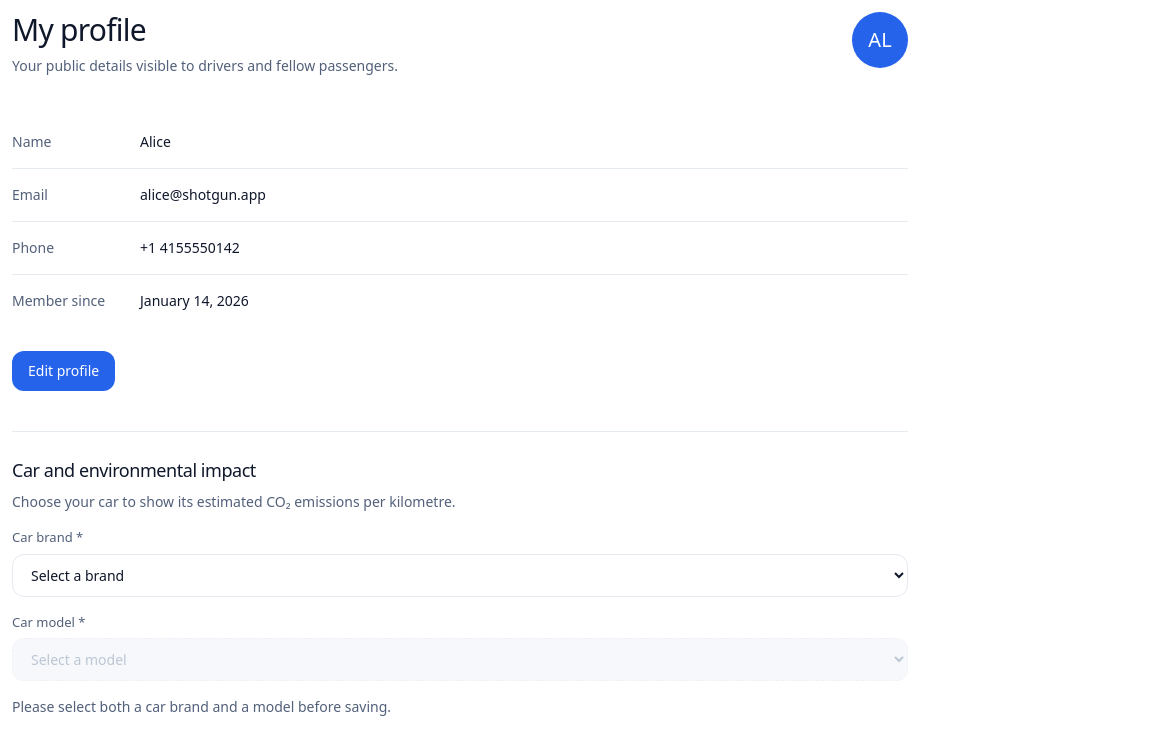
Test case: ProfileView › cancel returns to view mode without changing the store
Click the button "Edit profile" at (64, 371), box [12,351,115,391]
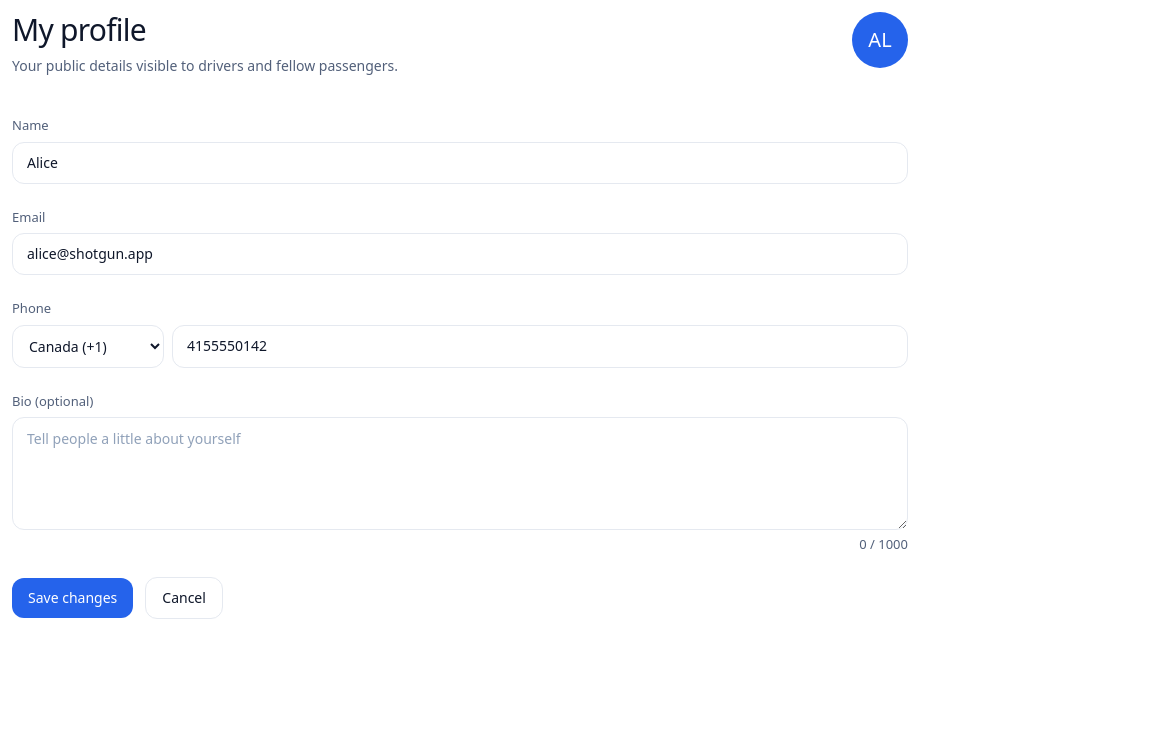
Replace the text in the field labelled "Name" with "Tampered" at (460, 162), box [12,142,908,184]
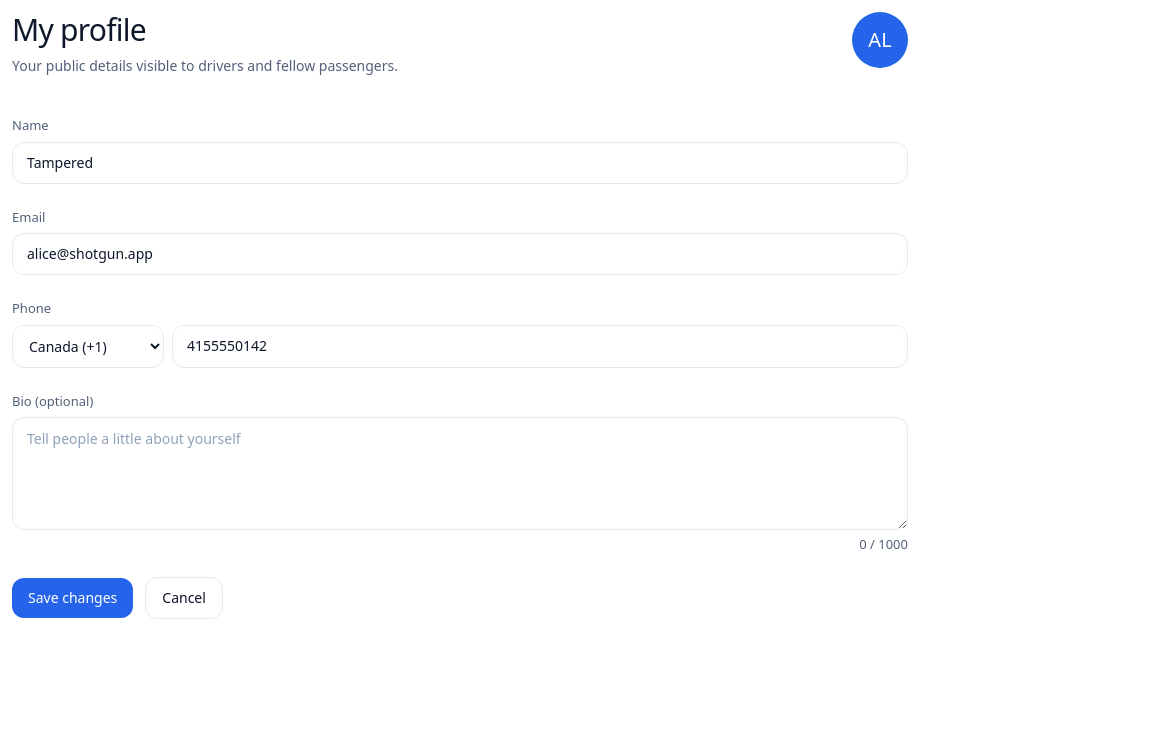
Click the button "Cancel" at (184, 598), box [145,577,223,619]
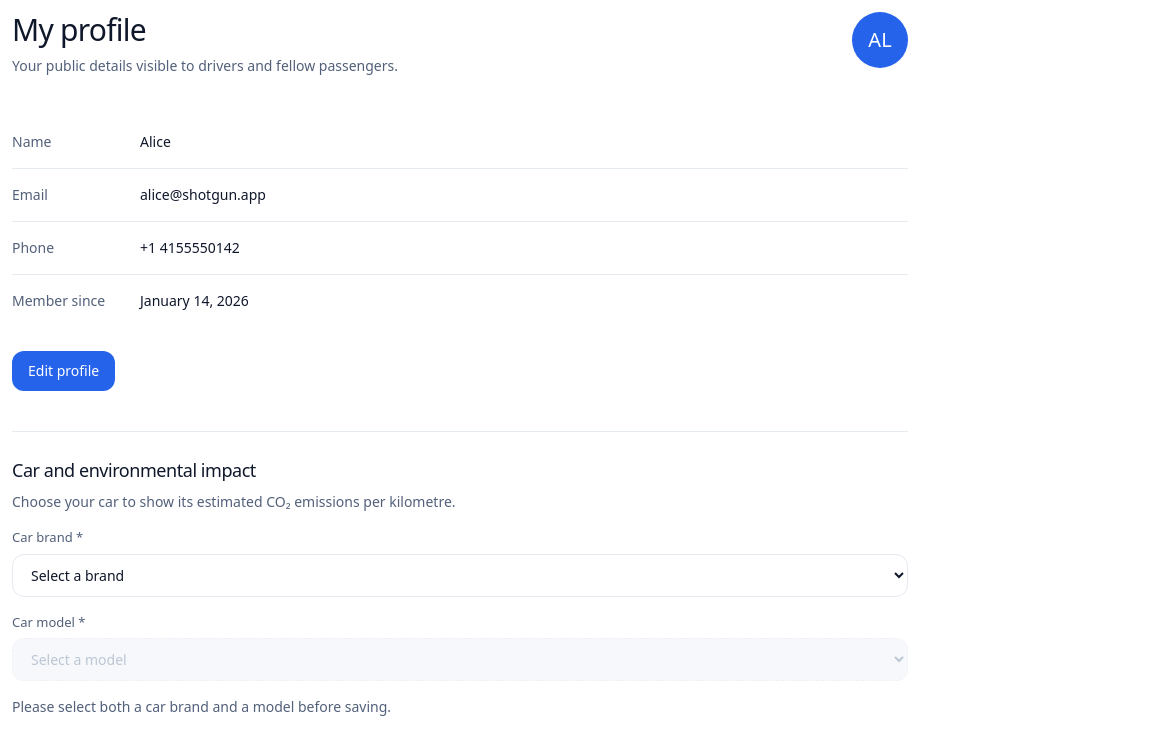
Expected: the button "Edit profile" is shown, [12,351,115,391]
Expected: the text "Alice" is shown, [140,132,171,151]
